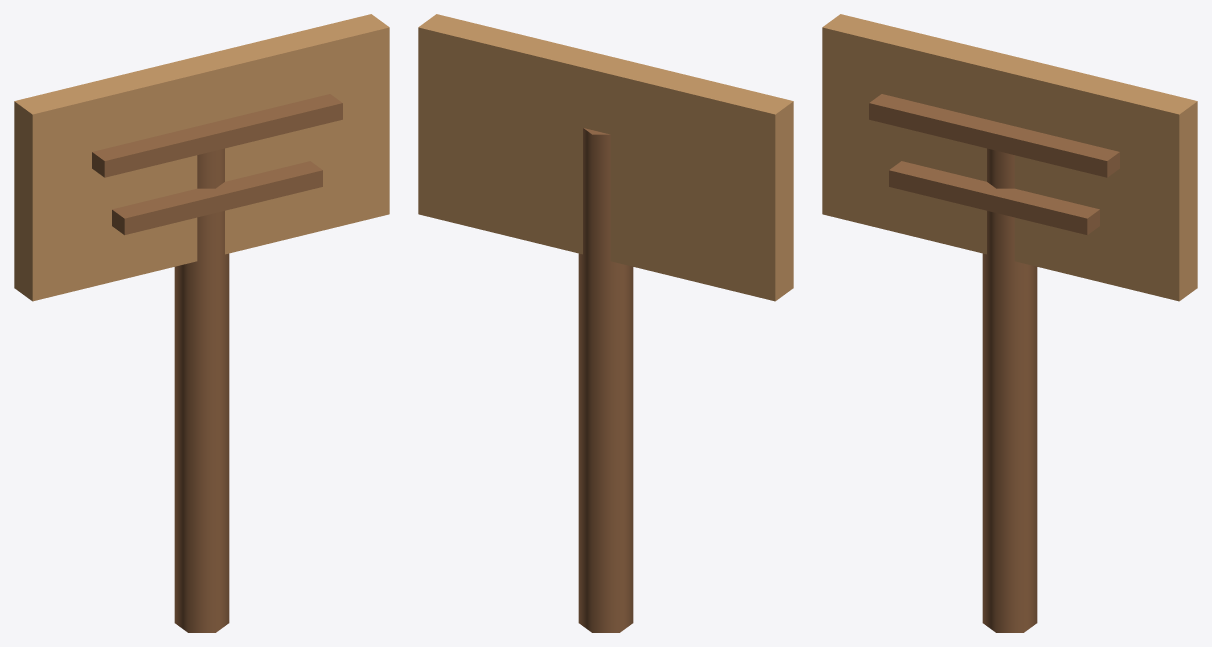
The model's file is sign.glb.
3 renders of one model, left to right at view 1: azimuth 30°, elevation 25°; view 2: azimuth 150°, elevation 25°; view 3: azimuth 330°, elevation 25°, orthographic.
Bounding box in the file's own units: 0.9 × 1.35 × 0.155.
